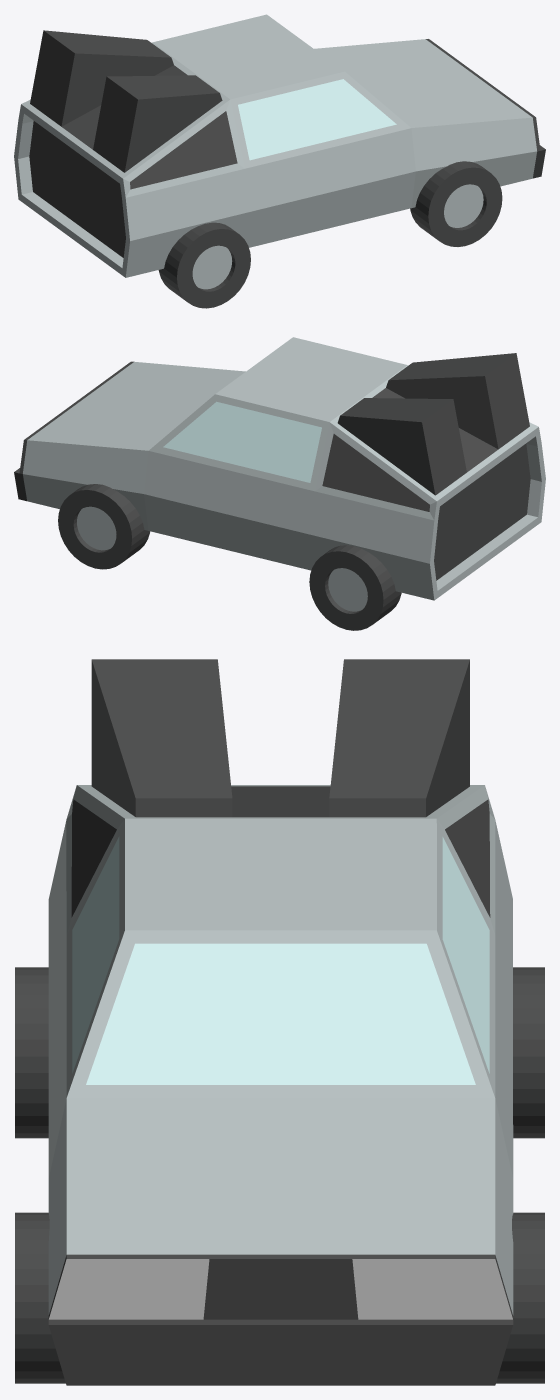
The model's file is Car.glb.
3 views of the same model, one above another, from view 1: azimuth 30°, elevation 25°; view 2: azimuth 150°, elevation 25°; view 3: azimuth 270°, elevation 25° (orthographic). The views are drawn at different scales.
Visible parts, largest first — view 1: Cube001, Cube001_1, Cube001_2; view 2: Cube001, Cube001_1, Cube001_2; view 3: Cube001, Cube001_1, Cube001_2, Cube001_3.
Part boxes in pixels (<box>): Cube001: <box>14,14,537,289</box>; Cube001_1: <box>29,30,545,308</box>; Cube001_2: <box>238,79,396,160</box>; Cube001: <box>23,337,545,611</box>; Cube001_1: <box>14,353,530,630</box>; Cube001_2: <box>163,401,321,482</box>; Cube001: <box>48,785,513,1315</box>; Cube001_1: <box>15,659,544,1385</box>; Cube001_2: <box>72,836,489,1084</box>; Cube001_3: <box>49,1259,512,1319</box>.
Bounding box in the file's own units: 1.16 × 0.5556 × 0.6421.
